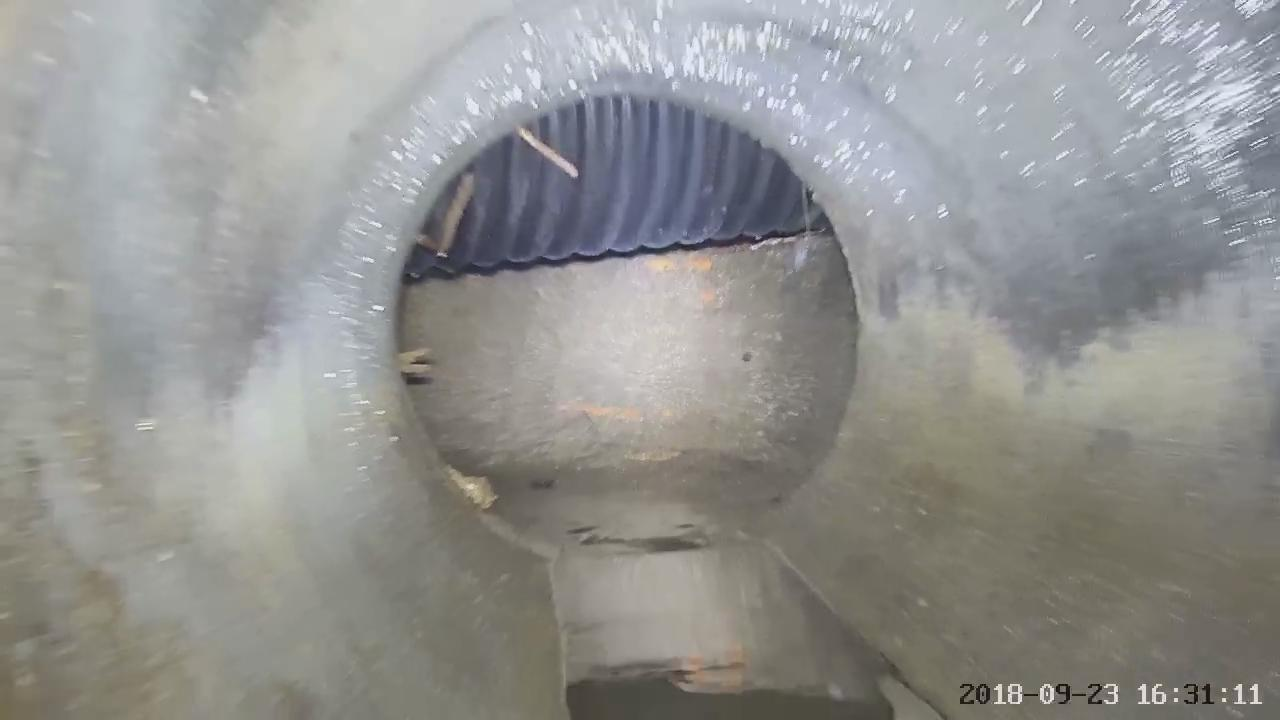YWCR: (404, 94, 828, 280)
